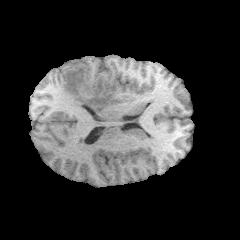glioma: (63, 65, 122, 112)
